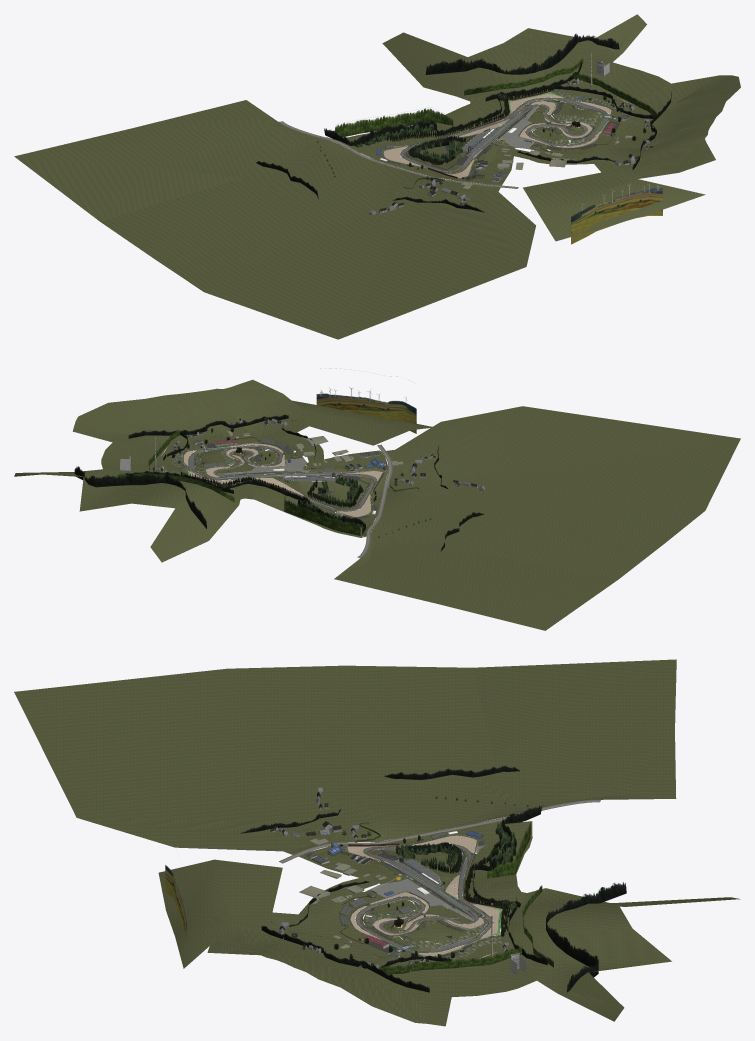
File: sachsenring.glb
3 renders of one model, top to bottom at view 1: azimuth 30°, elevation 25°; view 2: azimuth 150°, elevation 25°; view 3: azimuth 270°, elevation 25°, orthographic. The views are drawn at different scales.
Parts seen in each view (by area): view 1: sachsenring_0; view 2: sachsenring_0; view 3: sachsenring_0.
Boxes of the visible parts, bbox=[...] form: sachsenring_0: bbox=[14, 14, 740, 339]; sachsenring_0: bbox=[14, 379, 740, 630]; sachsenring_0: bbox=[14, 659, 740, 1026].
Size of the model in its own units: 3146 by 301 by 2602.
94 materials, 93 textured.
